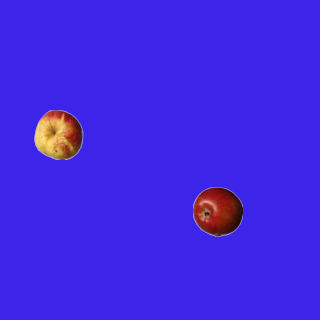Apple Braeburn: (192, 186, 242, 236)
Apple Red Yellow 1: (33, 109, 83, 159)
